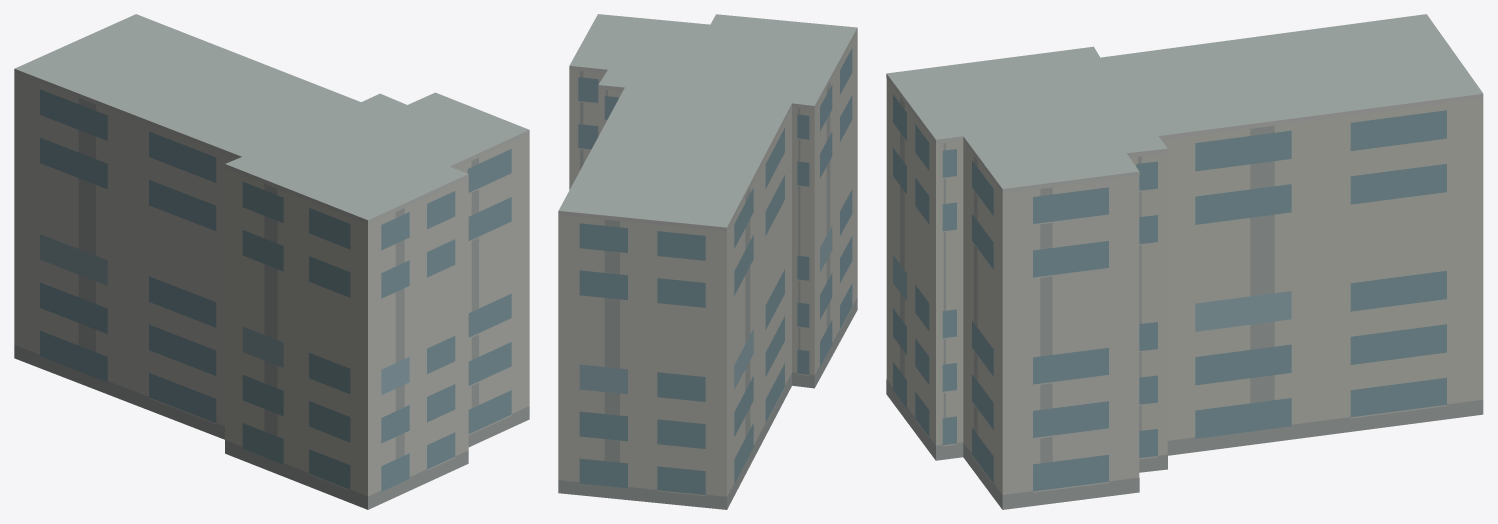
File: survey-upis-32923934.glb
3 renders of one model, left to right at view 1: azimuth 30°, elevation 25°; view 2: azimuth 150°, elevation 25°; view 3: azimuth 270°, elevation 25°, orthographic. The views are drawn at different scales.
Parts seen in each view (by area): view 1: survey-upis-32923934.tmp; view 2: survey-upis-32923934.tmp; view 3: survey-upis-32923934.tmp.
Part boxes in pixels (x1,y1,x2,y2): survey-upis-32923934.tmp: (14, 14, 529, 509); survey-upis-32923934.tmp: (558, 14, 857, 509); survey-upis-32923934.tmp: (886, 14, 1483, 509).
Bounding box in the file's own units: 19.38 × 16.56 × 27.93.
